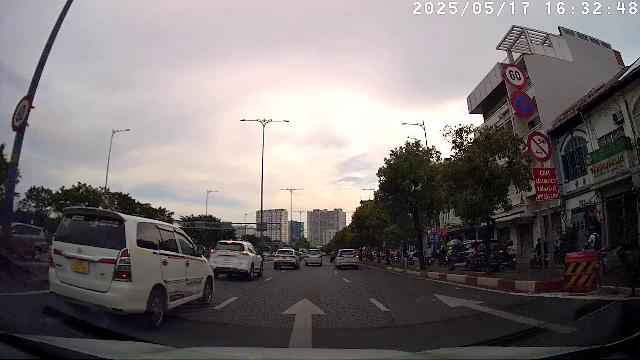127-toc-do-toi-da-60: (11, 95, 31, 131), (502, 63, 526, 88)
130-cam-dung-va-do-xe: (510, 90, 534, 118)
